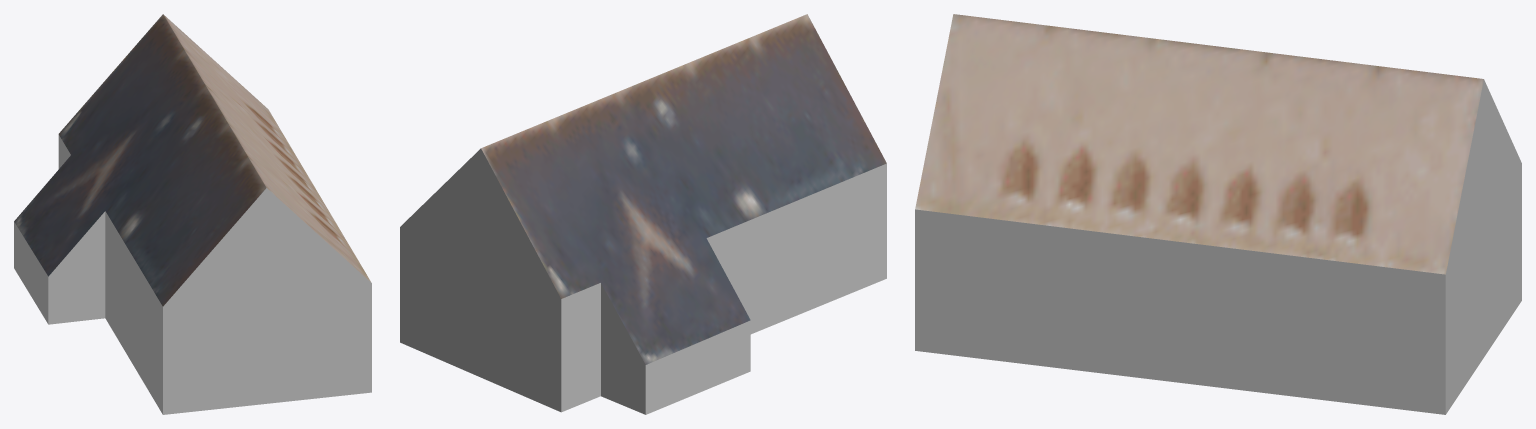
Rendered from DEBW_0010007Tx9T.gltf.
3 views of the same model, side by side, from view 1: azimuth 30°, elevation 25°; view 2: azimuth 150°, elevation 25°; view 3: azimuth 270°, elevation 25° (orthographic). The views are drawn at different scales.
Parts seen in each view (by area): view 1: Z_UP; view 2: Z_UP; view 3: Z_UP.
Part boxes in pixels (x1,y1,x2,y2): Z_UP: [14, 14, 371, 414]; Z_UP: [400, 14, 886, 414]; Z_UP: [915, 14, 1521, 414].
Bounding box in the file's own units: 20.45 × 15.01 × 29.51.
Materials: 2 (1 with a texture image).
